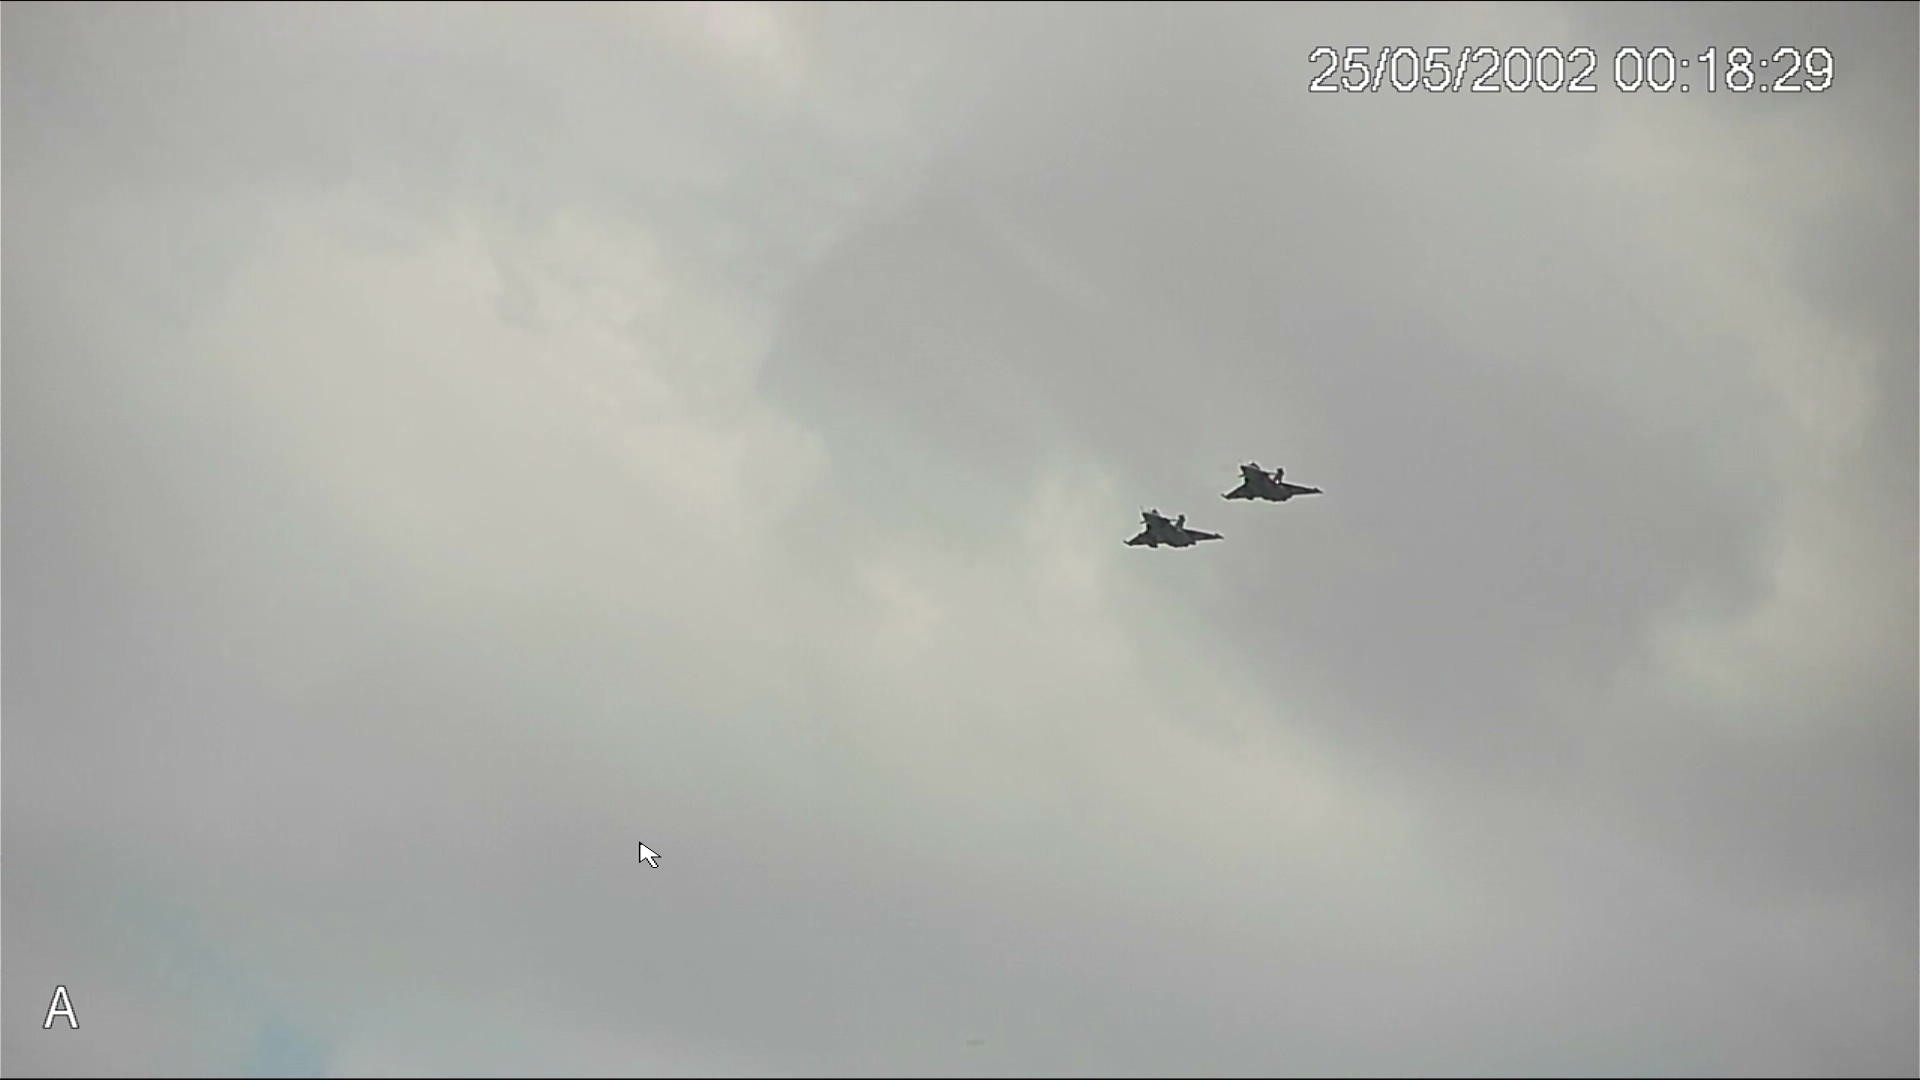SU_30: (1212, 458, 1331, 516), (1117, 506, 1225, 560)
